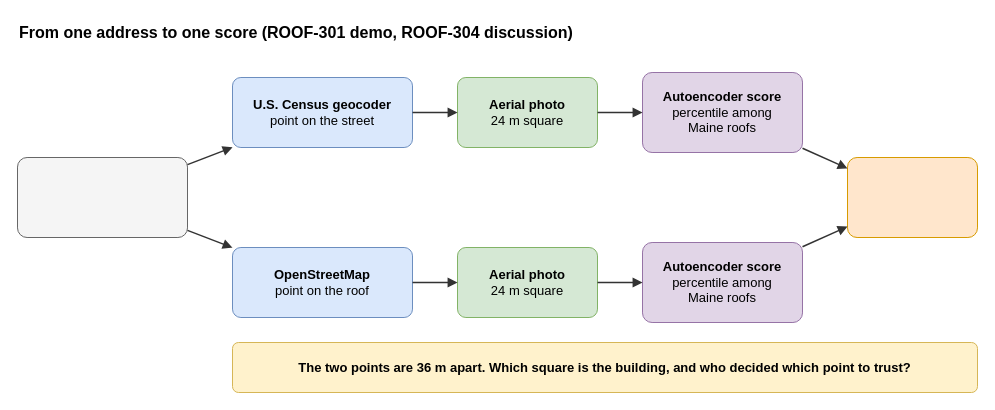
This 995x410 diagram has some shape labels left out. Here are the shapes that lost their labels. From the top down, the box of each, then its label:
(16, 156, 188, 238): Address South Portland City Hall (a public building)
(846, 156, 978, 238): Send an inspector?
